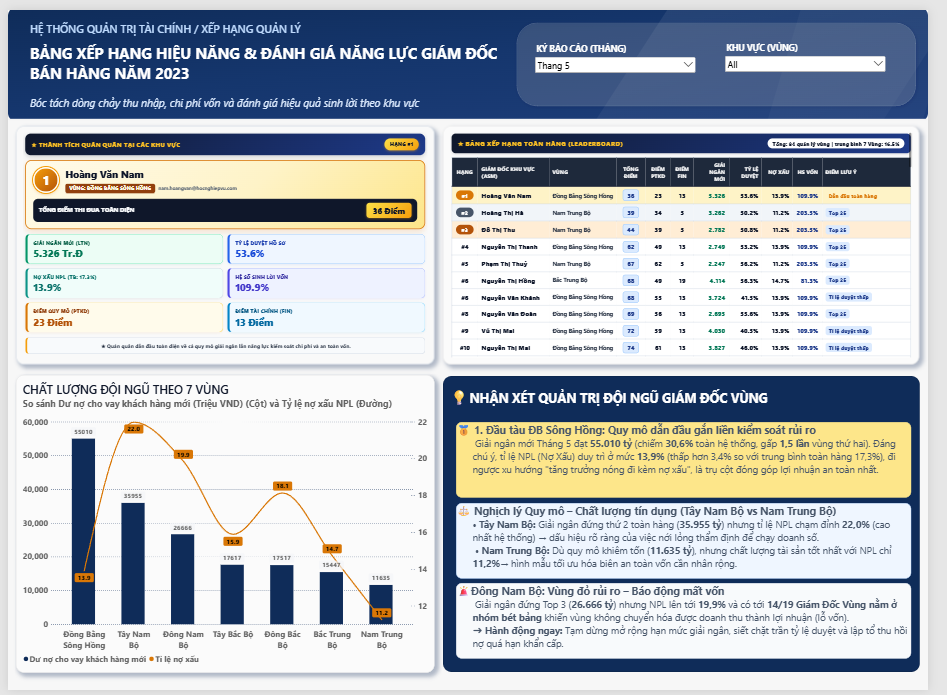

Layout of this report page (visuals, bound fields, positions):
{"tool":"powerbi","page":{"name":"XẾP HẠNG QUẢN LÝ VÙNG","canvas":[2300,1700],"ordinal":3},"visuals":[{"type":"image","title":"GRAD XANH","box":[0,0,2300,272],"z":0,"group":"g1"},{"type":"group","id":"g1","title":"TIÊU ĐỀ","box":[0,0,2300,272],"z":0},{"type":"shape","title":"SLICER","box":[1262.1,22.5,1016.3,227.1],"z":0,"group":"g2"},{"type":"shape","box":[1088,916,1192,740],"z":0,"group":"g3"},{"type":"textbox","box":[55.2,81.8,1206.4,145.7],"z":1000,"group":"g1"},{"type":"slicer","title":"THÁNG","fields":{"Values":["banking_project dim_month.ten_thang"]},"box":[1312.3,83.5,410.8,109.3],"z":1000,"group":"g2"},{"type":"htmlContent443BE3AD55E043BF878BED274D3A6865","fields":{"content":["LAI LO (Visuals & DAX).ASM_Top1_HTML"]},"box":[20,290,1046,596],"z":1000},{"type":"textbox","box":[1103.7,942.3,1138,86.8],"z":1000,"group":"g3"},{"type":"textbox","box":[1120.5,1031.1,1138,189.4],"z":1500,"group":"g3"},{"type":"group","id":"g2","title":"SLICER","box":[1262.1,22.5,1016.3,227.1],"z":2000,"group":"g1"},{"type":"slicer","title":"KHU VỰC","fields":{"Values":["banking_project v_baocao_tonghop.area_name"]},"box":[1787,81.2,410.8,109.3],"z":2000,"group":"g2"},{"type":"lineClusteredColumnComboChart","title":"CHẤT LƯỢNG ĐỘI NGŨ THEO 7 VÙNG","fields":{"Category":["banking_project v_baocao_tonghop.area_name"],"Y":["Sum(banking_project v_xephang_asm.ltn_trieu_dong)"],"Y2":["Avg(banking_project v_xephang_asm.npl)"]},"box":[20,912,1046,744],"z":2000},{"type":"textbox","box":[1120.5,1232.4,1138,189.4],"z":2000,"group":"g3"},{"type":"textbox","box":[1120.5,1433.7,1138,189.4],"z":2500,"group":"g3"},{"type":"textbox","box":[54.7,27.5,1209,55],"z":3000,"group":"g1"},{"type":"htmlContent443BE3AD55E043BF878BED274D3A6865","fields":{"content":["LAI LO (Visuals & DAX).ASM_Leaderboard_HTML"]},"box":[1088,290,1190,596],"z":3000},{"type":"textbox","box":[53.9,213.4,1959.1,52.9],"z":4000,"group":"g1"},{"type":"group","id":"g3","title":"Group 1","box":[1088,916,1192,740],"z":4000}]}

Visuals, with their boxes in screenshot pixels (x1, y1, x2, y2), scaled from the page's 2300x1700 canvas onto the 947x695 screenshot:
"GRAD XANH" image: bbox(0, 0, 946, 111)
"TIÊU ĐỀ" group: bbox(0, 0, 946, 111)
"SLICER" shape: bbox(520, 9, 938, 102)
shape: bbox(448, 374, 939, 677)
textbox: bbox(23, 33, 519, 93)
"THÁNG" slicer: bbox(540, 34, 709, 79)
htmlContent443BE3AD55E043BF878BED274D3A6865 - LAI LO (Visuals & DAX).ASM_Top1_HTML: bbox(8, 119, 439, 362)
textbox: bbox(454, 385, 923, 421)
textbox: bbox(461, 422, 930, 499)
"SLICER" group: bbox(520, 9, 938, 102)
"KHU VỰC" slicer: bbox(736, 33, 905, 78)
"CHẤT LƯỢNG ĐỘI NGŨ THEO 7 VÙNG" lineClusteredColumnComboChart: bbox(8, 373, 439, 677)
textbox: bbox(461, 504, 930, 581)
textbox: bbox(461, 586, 930, 664)
textbox: bbox(23, 11, 520, 34)
htmlContent443BE3AD55E043BF878BED274D3A6865 - LAI LO (Visuals & DAX).ASM_Leaderboard_HTML: bbox(448, 119, 938, 362)
textbox: bbox(22, 87, 829, 109)
"Group 1" group: bbox(448, 374, 939, 677)
